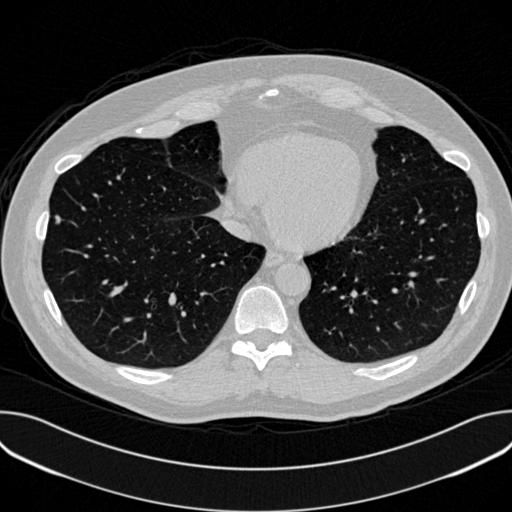nodule: (52, 214, 63, 225)
